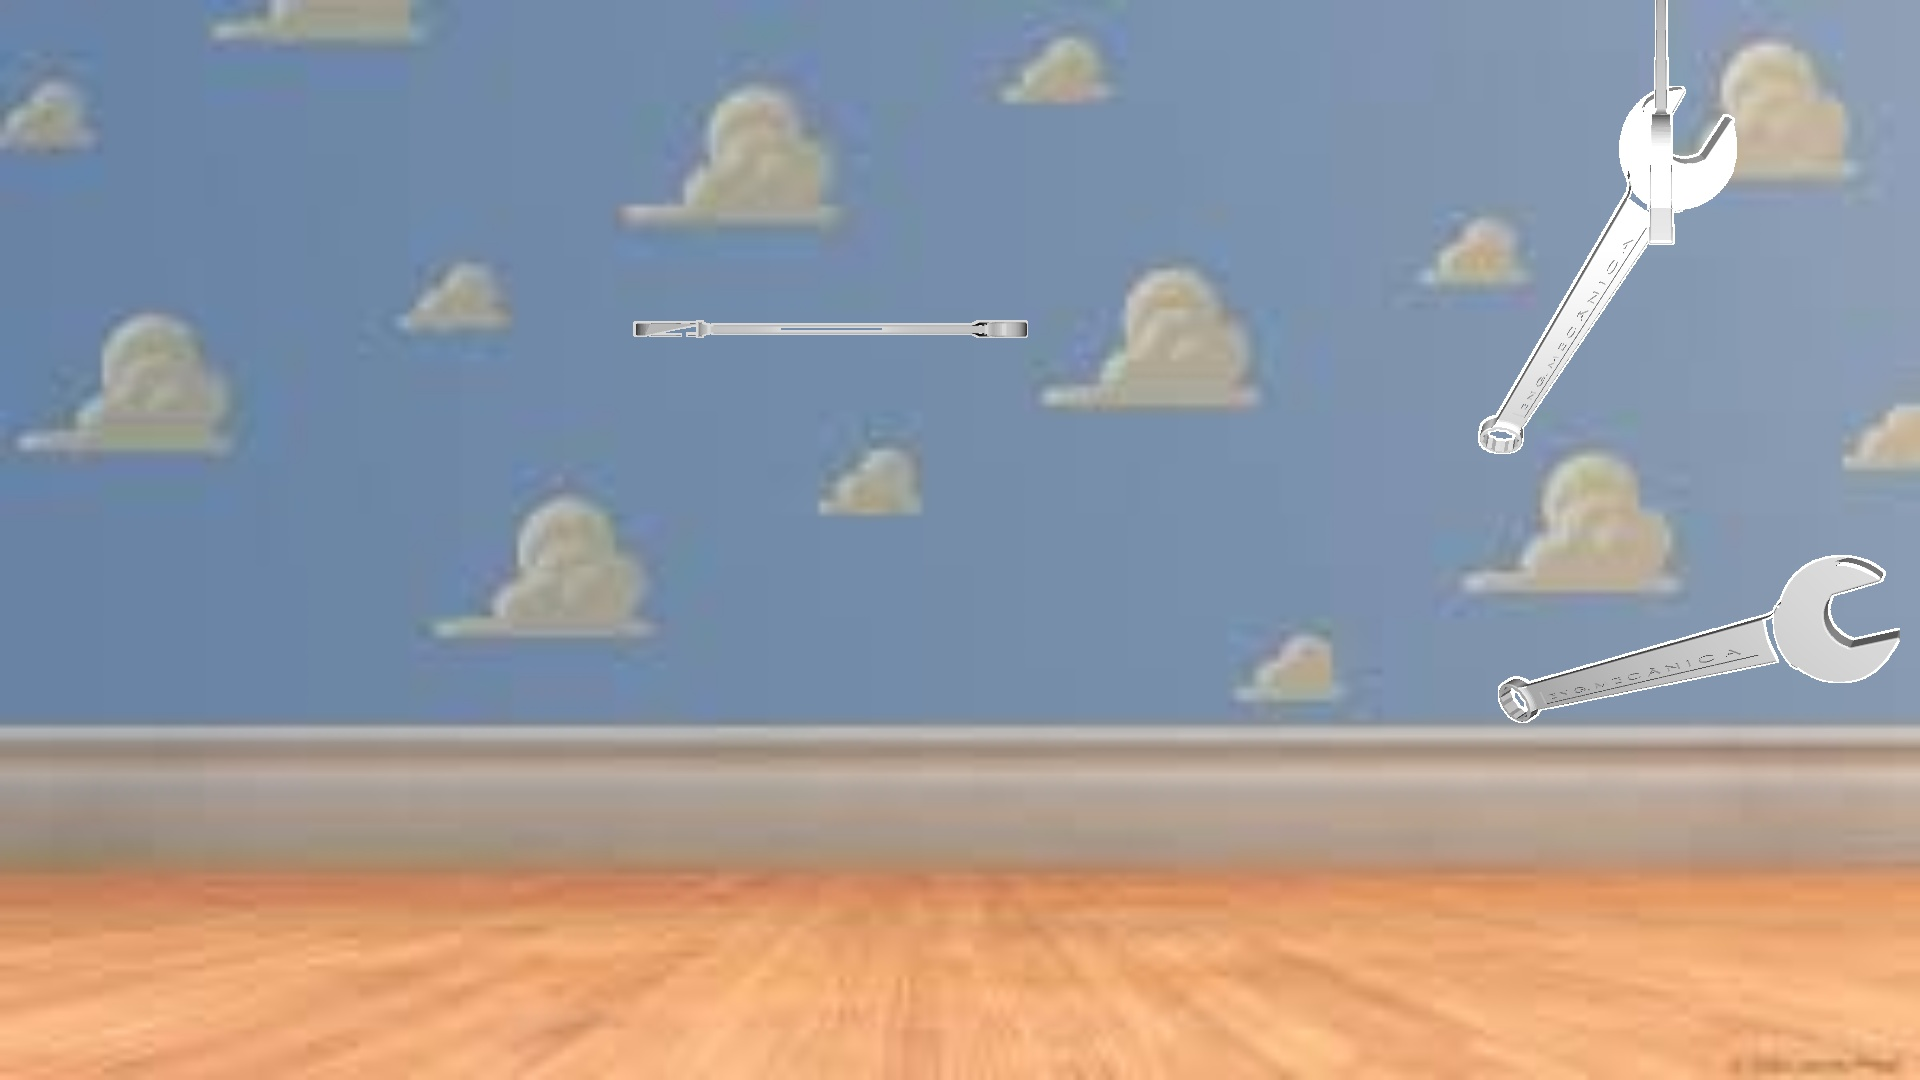Mixed Key: (1478, 86, 1735, 454), (1498, 555, 1899, 723), (633, 320, 1027, 338), (1647, 0, 1675, 244)
